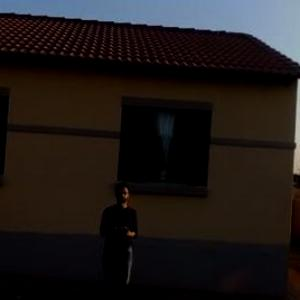follow: (96, 176, 141, 299)
